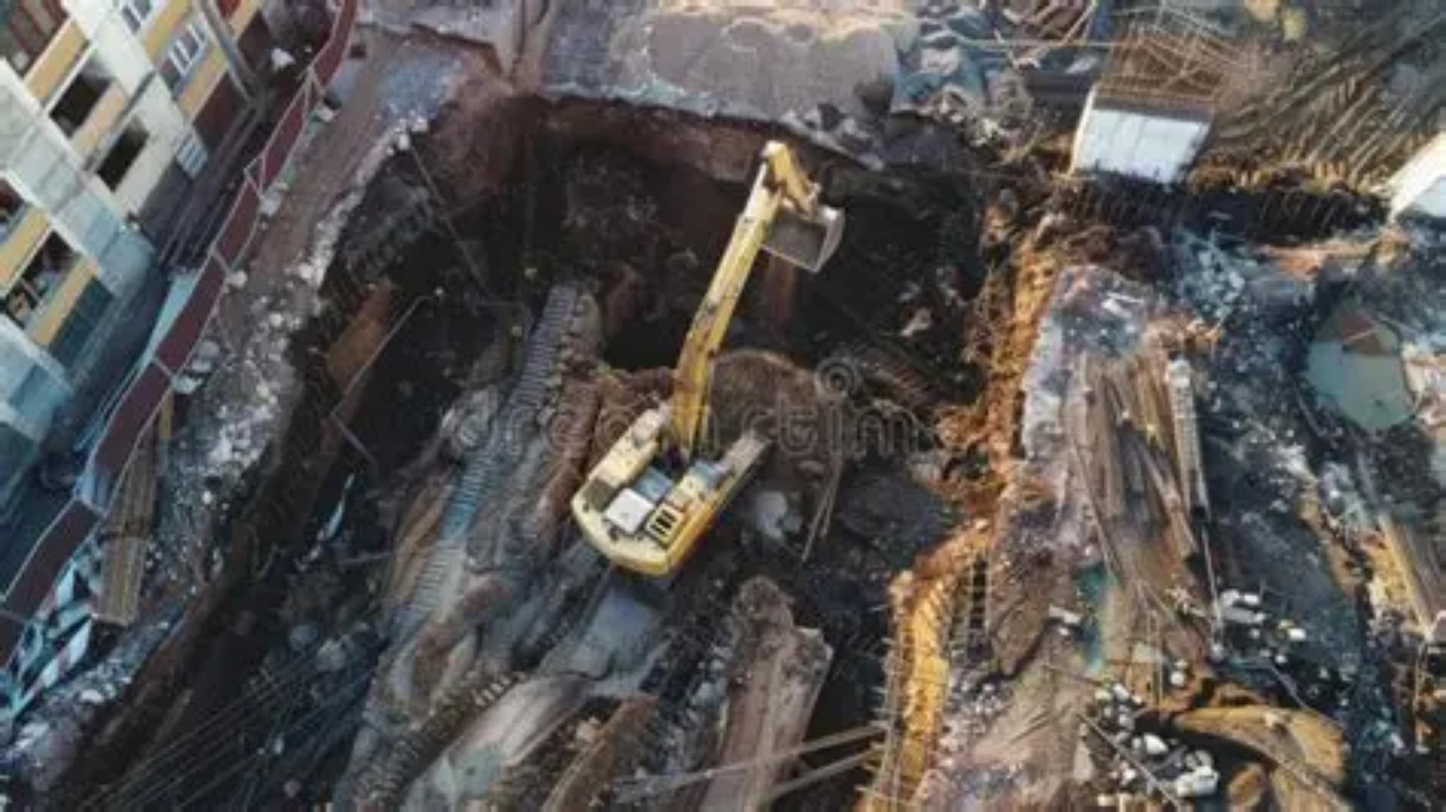excavator: (571, 140, 842, 574)
